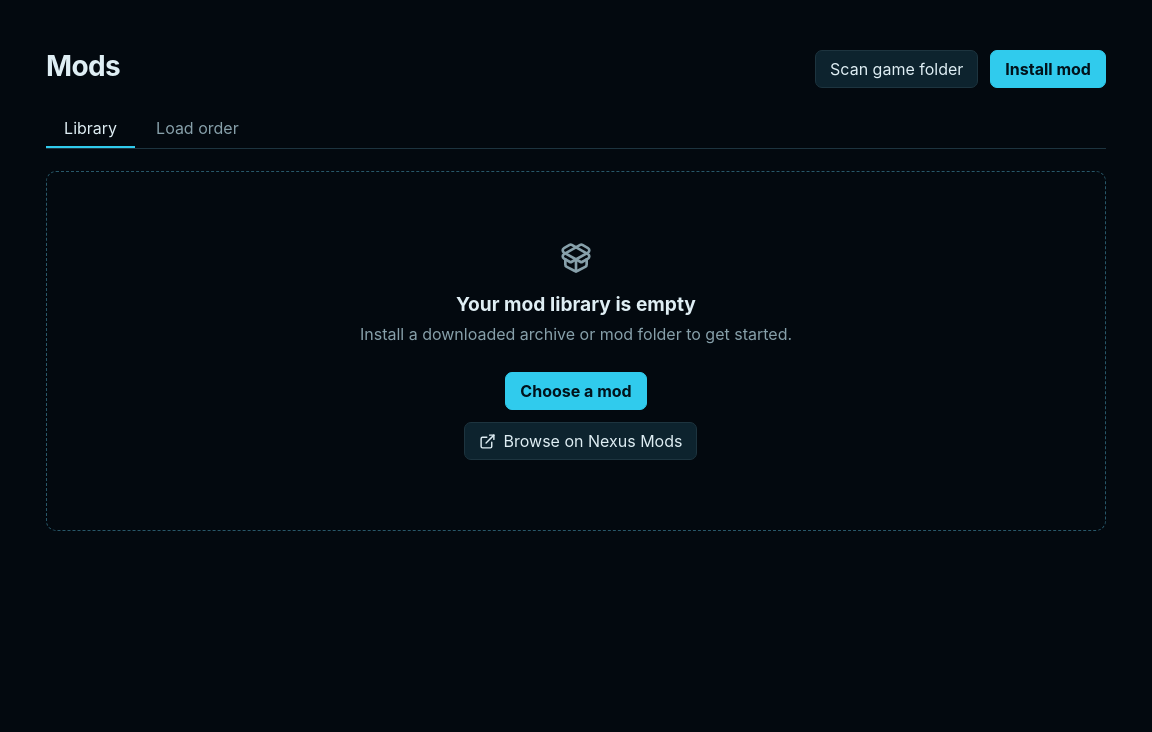
Test: UE4SS start passes › separates the DLL pass from the Lua pass
Click the tab "Load order".
click(197, 129)  # box [138,110,257,148]
(page scrolled)
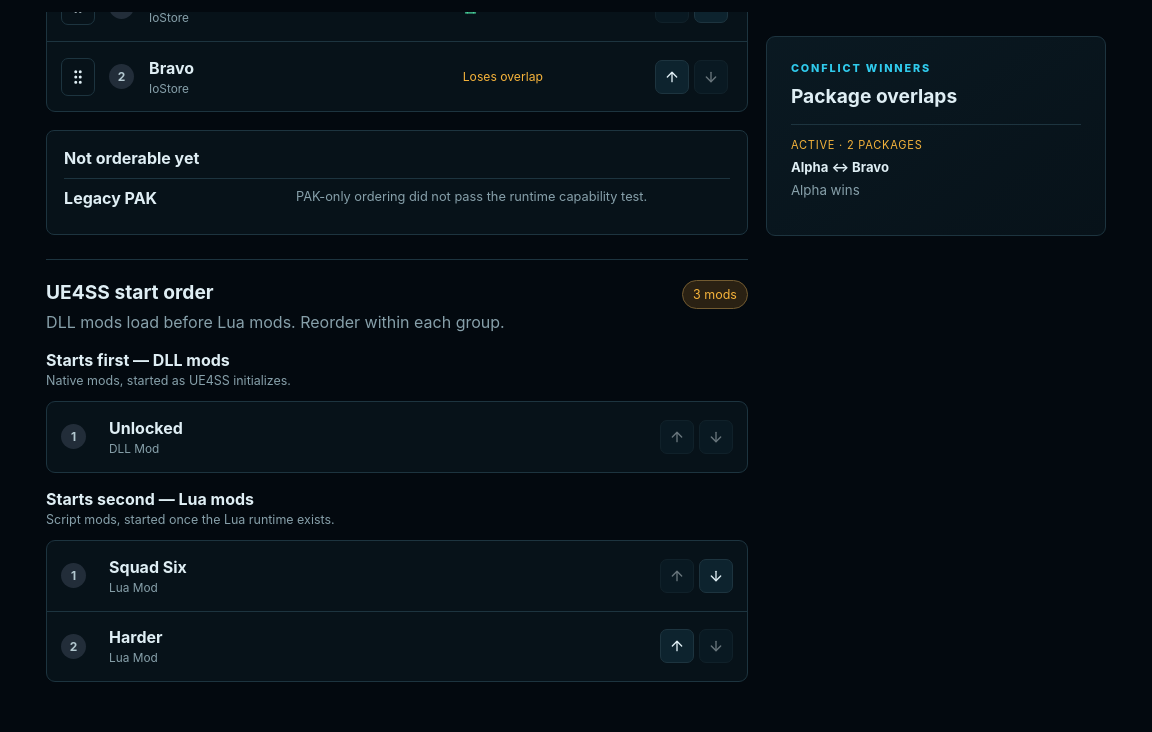
Now the heading "Starts first — DLL mods" is shown, box [46,350,230,370]
Now the heading "Starts second — Lua mods" is shown, box [46,489,254,509]
